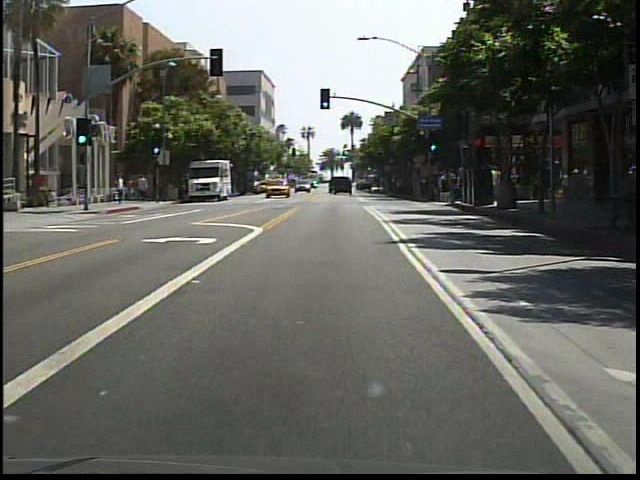person: (115, 174, 128, 208), (138, 172, 152, 202), (64, 183, 79, 208), (126, 176, 138, 202)
